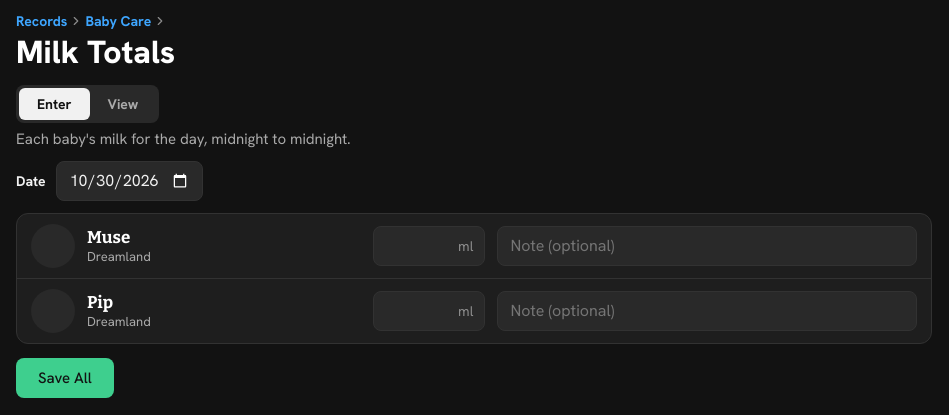
Test: entering a batch › Save All saves the typed ones (empty: skipped), then says so and empties the boxes
In the date field labelled "Date": (129, 181) x1=56 y1=161 x2=203 y2=201, type "2026-10-24"
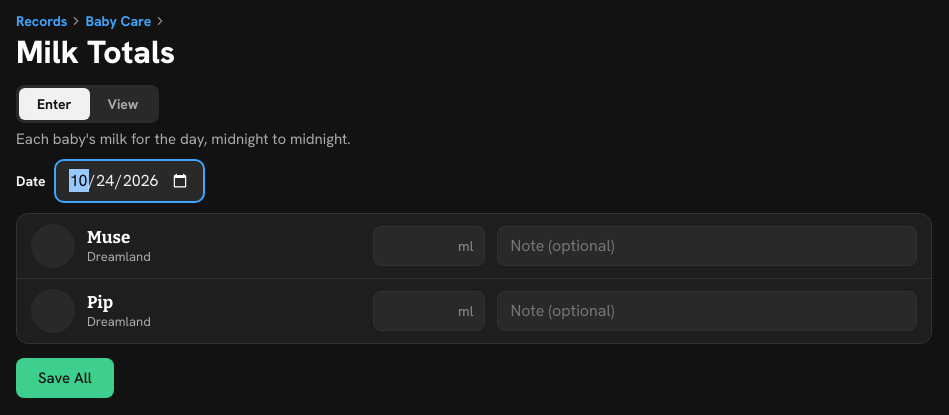
In the field labelled "Muse": (429, 246) x1=373 y1=226 x2=485 y2=266, type "180"
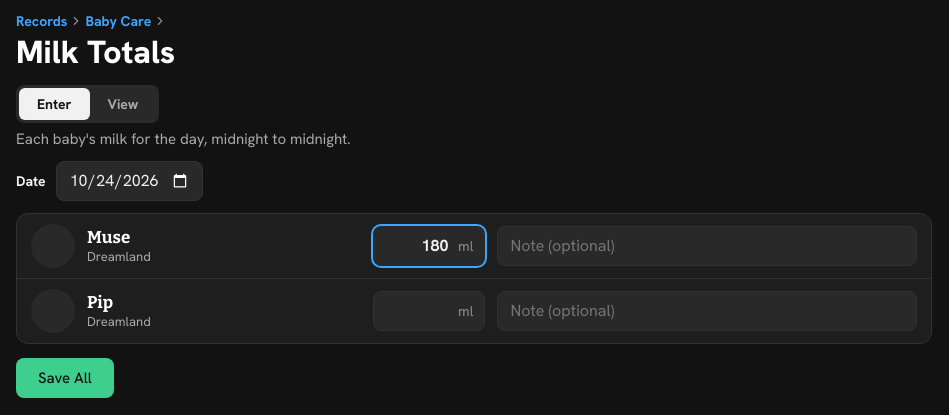
In the field named "Note for Muse": (707, 246) x1=497 y1=226 x2=917 y2=266, type "Skipped the 2am feed"
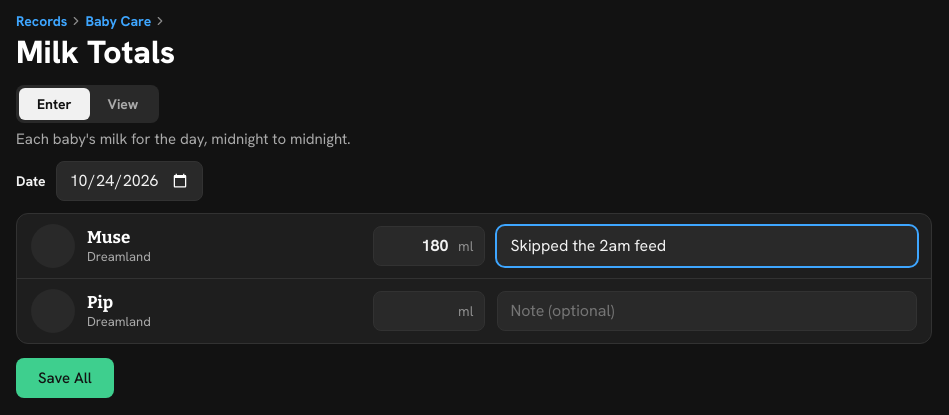
Click the button "Save All": (65, 378) x1=16 y1=358 x2=114 y2=398
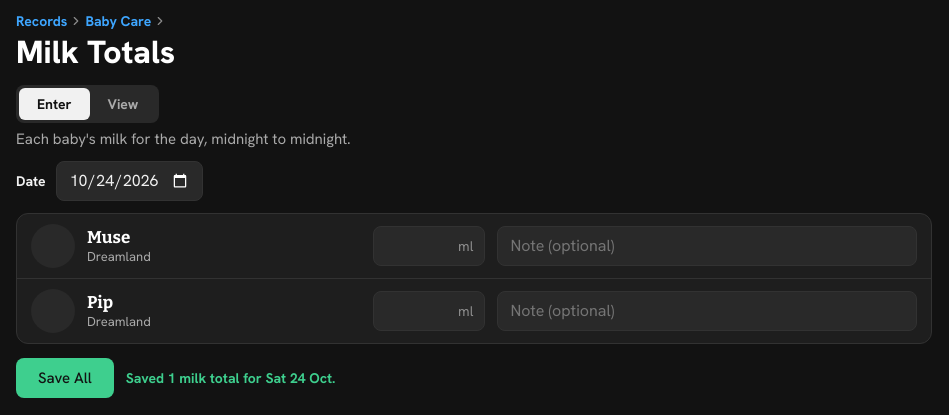
Now the message reads "Saved 1 milk total for Sat 24 Oct.", box x1=126 y1=369 x2=336 y2=387
Now the field labelled "Muse" is empty, box x1=373 y1=226 x2=485 y2=266
